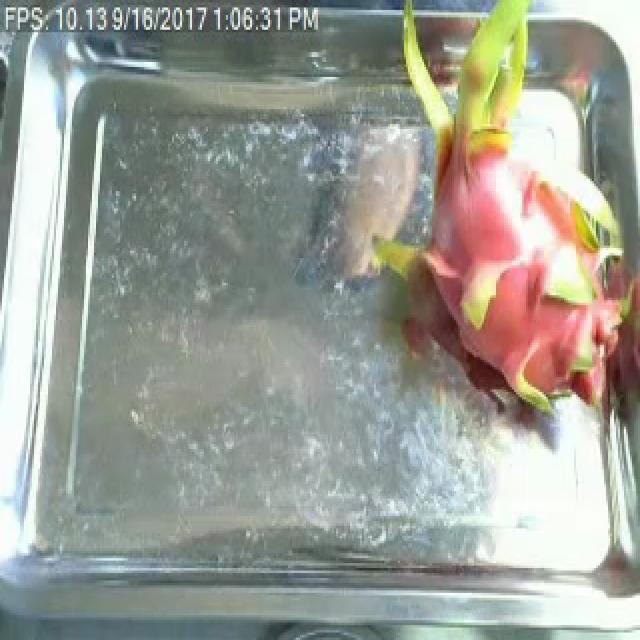fruit: (358, 8, 640, 442)
